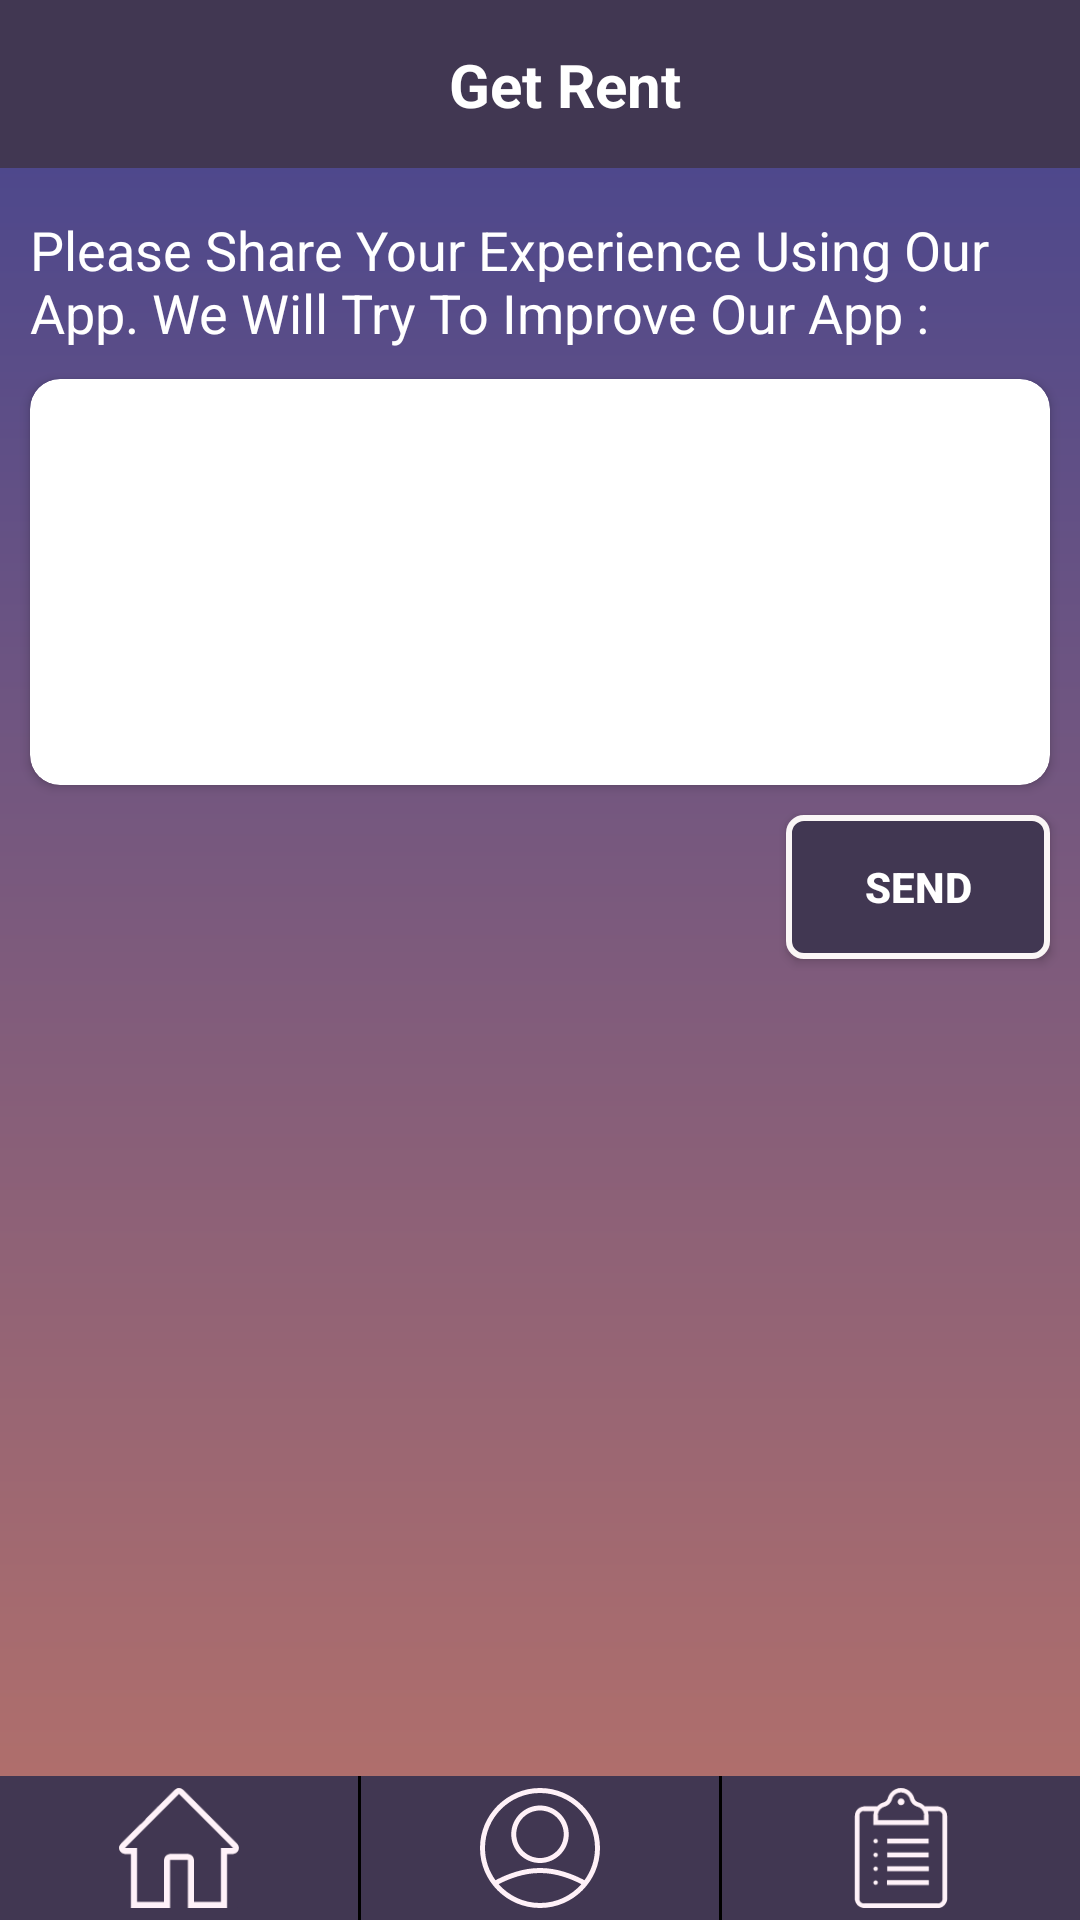

Where to tap for icons on this 1080x1920 app screen, as (x,y):
home: (179,1848)
post: (901,1848)
profile: (540,1848)
